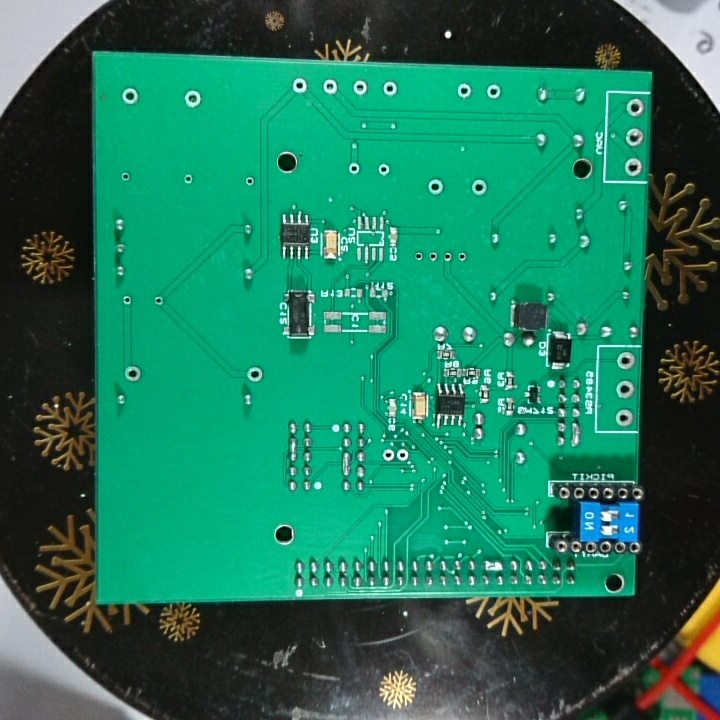F: (615, 351, 638, 375), (180, 89, 205, 111), (454, 80, 476, 104), (120, 363, 144, 385), (624, 96, 646, 119), (118, 85, 141, 107), (622, 155, 643, 179), (245, 364, 267, 386), (613, 406, 634, 429), (623, 125, 644, 148), (614, 379, 634, 403), (469, 177, 491, 198), (426, 175, 446, 198), (291, 76, 311, 98), (351, 76, 369, 98), (321, 76, 339, 98), (380, 78, 399, 98), (484, 82, 502, 103), (394, 446, 411, 466), (179, 170, 197, 188), (345, 160, 361, 178), (380, 446, 395, 465), (376, 161, 391, 178), (118, 167, 133, 184), (119, 292, 134, 309), (242, 173, 257, 189), (150, 293, 165, 309), (411, 249, 425, 266), (456, 249, 469, 266), (425, 249, 439, 263), (441, 250, 453, 265)
P: (284, 435, 301, 462), (482, 558, 506, 575), (569, 420, 582, 449), (339, 451, 353, 477)
